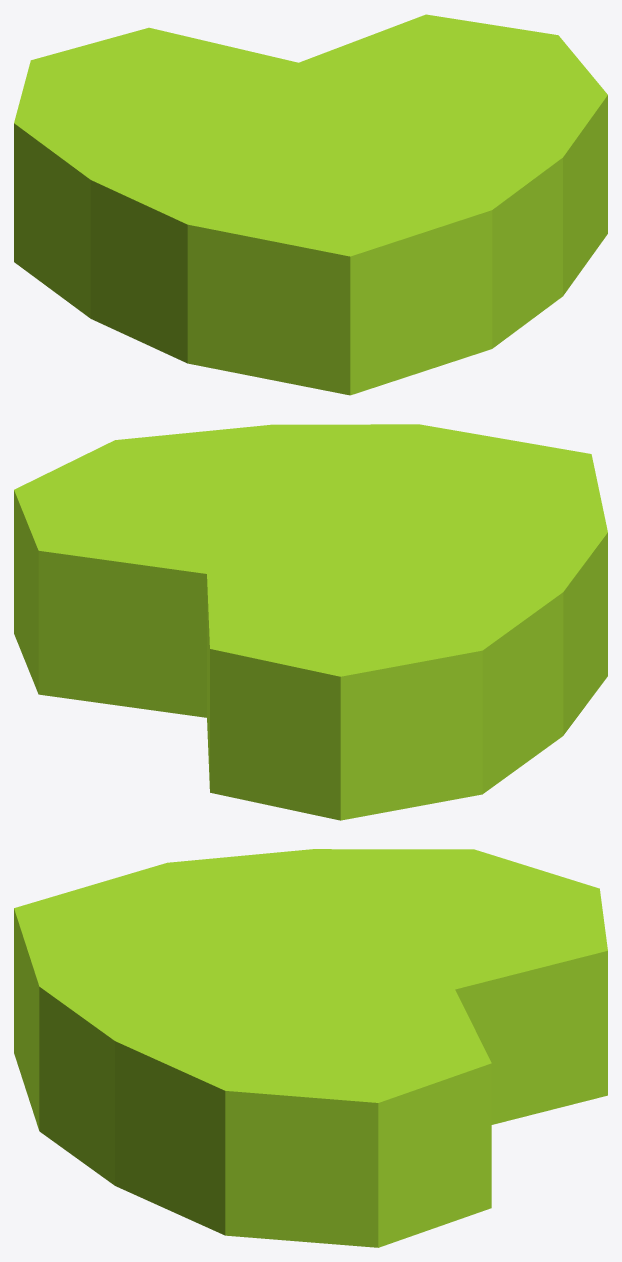
File: heart1.glb
The picture shows the model from 3 angles, top to bottom: view 1: azimuth 30°, elevation 25°; view 2: azimuth 150°, elevation 25°; view 3: azimuth 270°, elevation 25°; orthographic projection. The views are drawn at different scales.
Bounding box in the file's own units: 0.2538 × 0.0675 × 0.2509.
